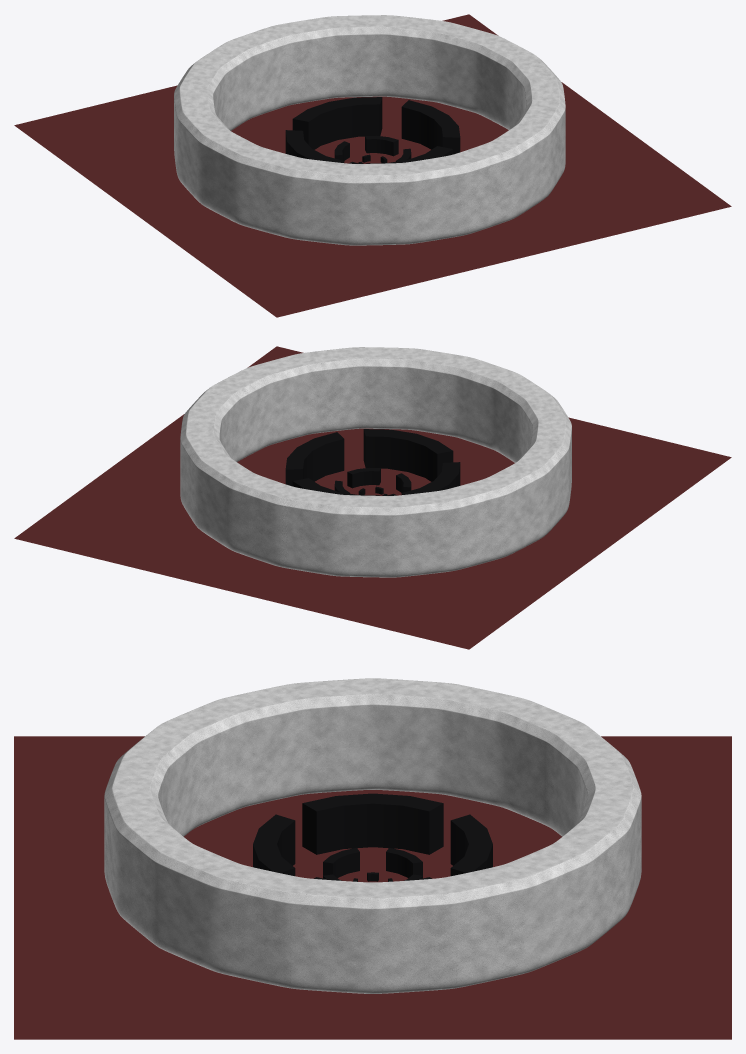
The model's file is Level_10.fbx.
3 views of the same model, one above another, from view 1: azimuth 30°, elevation 25°; view 2: azimuth 150°, elevation 25°; view 3: azimuth 270°, elevation 25° (orthographic). The views are drawn at different scales.
Parts seen in each view (by area): view 1: Walls_Exterior, ProspectSpace_Floor, SouthWall_MidOuter, WestWall_MidOuter, EastWall_MidOuter, SouthWestWall_MidInner; view 2: Walls_Exterior, ProspectSpace_Floor, NorthWall_MidOuter, WestWall_MidOuter, EastWall_MidOuter, NorthWestWall_MidInner; view 3: Walls_Exterior, ProspectSpace_Floor, EastWall_MidOuter, NorthWall_MidOuter, SouthWall_MidOuter, NorthEastWall_MidInner, SouthEastWall_MidInner.
Boxes of the visible parts, x1,y1,x2,y2 form: Walls_Exterior: (174,15,565,245); ProspectSpace_Floor: (14,14,731,317); SouthWall_MidOuter: (292,97,382,149); WestWall_MidOuter: (401,100,460,154); EastWall_MidOuter: (285,130,344,162); SouthWestWall_MidInner: (365,135,398,156); Walls_Exterior: (180,347,571,577); ProspectSpace_Floor: (14,346,731,649); NorthWall_MidOuter: (363,429,453,481); WestWall_MidOuter: (285,432,344,486); EastWall_MidOuter: (401,462,460,494); NorthWestWall_MidInner: (347,467,380,488); Walls_Exterior: (104,678,641,993); ProspectSpace_Floor: (14,736,731,1039); EastWall_MidOuter: (302,793,443,854); NorthWall_MidOuter: (253,814,295,876); SouthWall_MidOuter: (450,814,492,876); NorthEastWall_MidInner: (323,848,359,878); SouthEastWall_MidInner: (386,848,422,878).
Size of the model in its own units: 180 by 27.08 by 180.
Materials: 3 (1 with a texture image).
